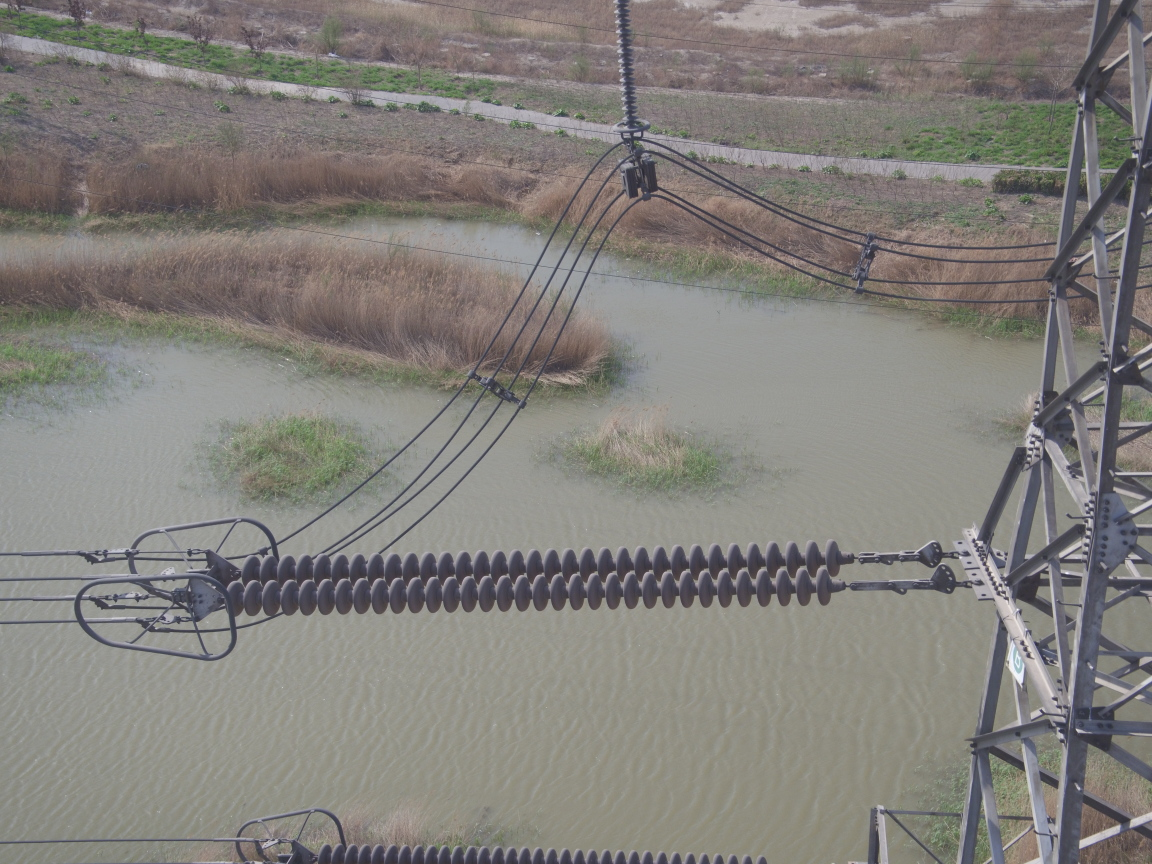insulator: (207, 535, 891, 623)
